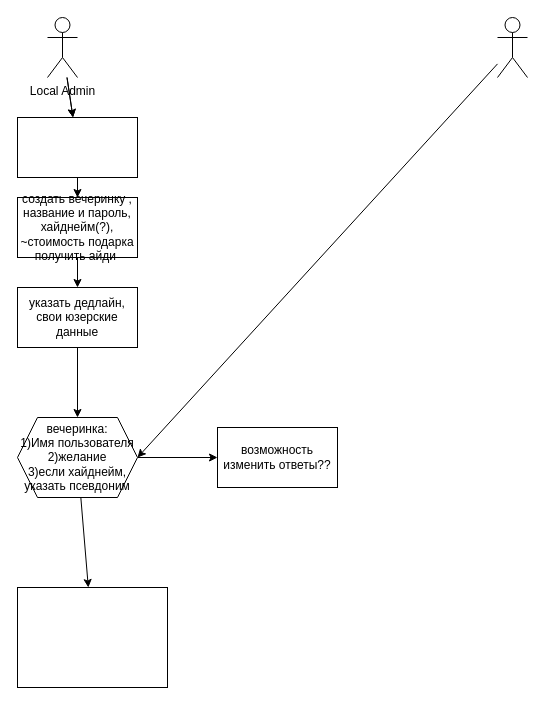
Some shapes in this 545 by 705 pixel diagram are drawn without their labels. Here are the shapes that lost their labels. From the top down, the centre of each, then its label:
At (512,47): "Actor".
At (77,147): "start - авторизация.".
At (92,637): "после дедлайна, люди рандомизируются, всем приходит уведомление о подарке".
